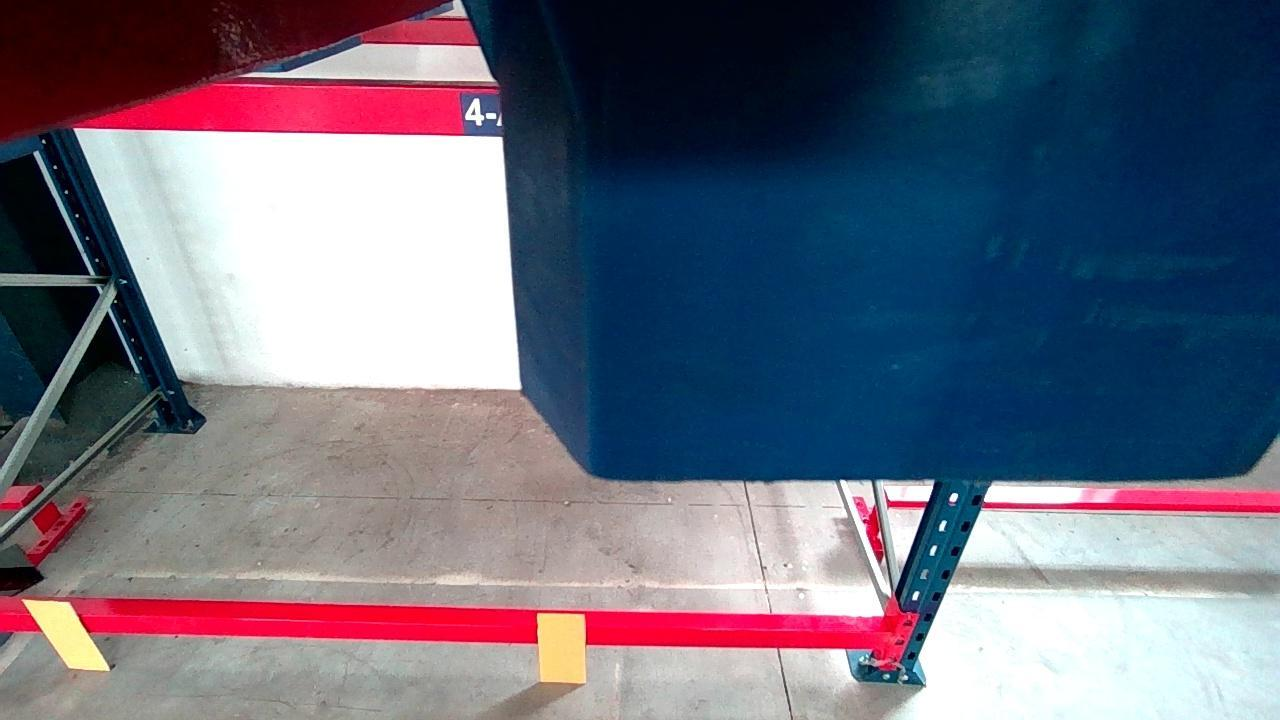h_rack: (0, 607, 889, 651), (88, 87, 500, 133)
orange_strip: (22, 598, 110, 671), (536, 611, 586, 680)
